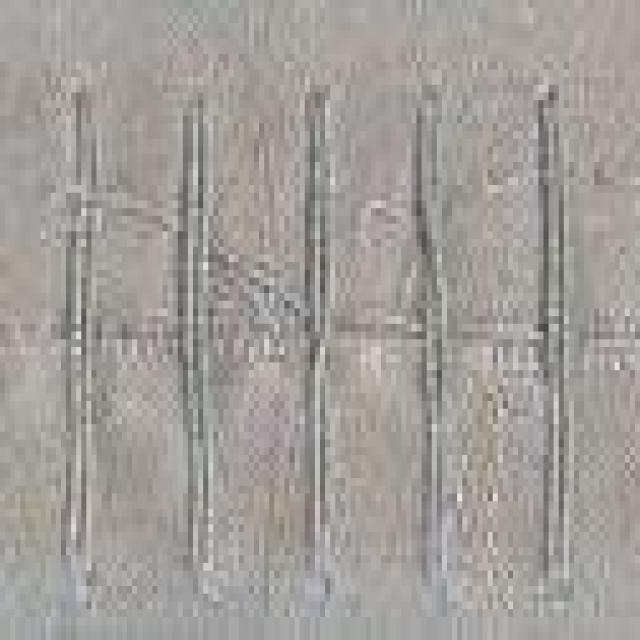gray stitch: (59, 69, 582, 602)
